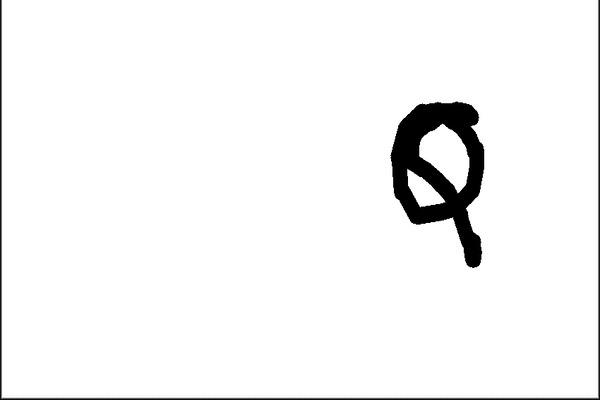Q: (376, 98, 492, 275)
